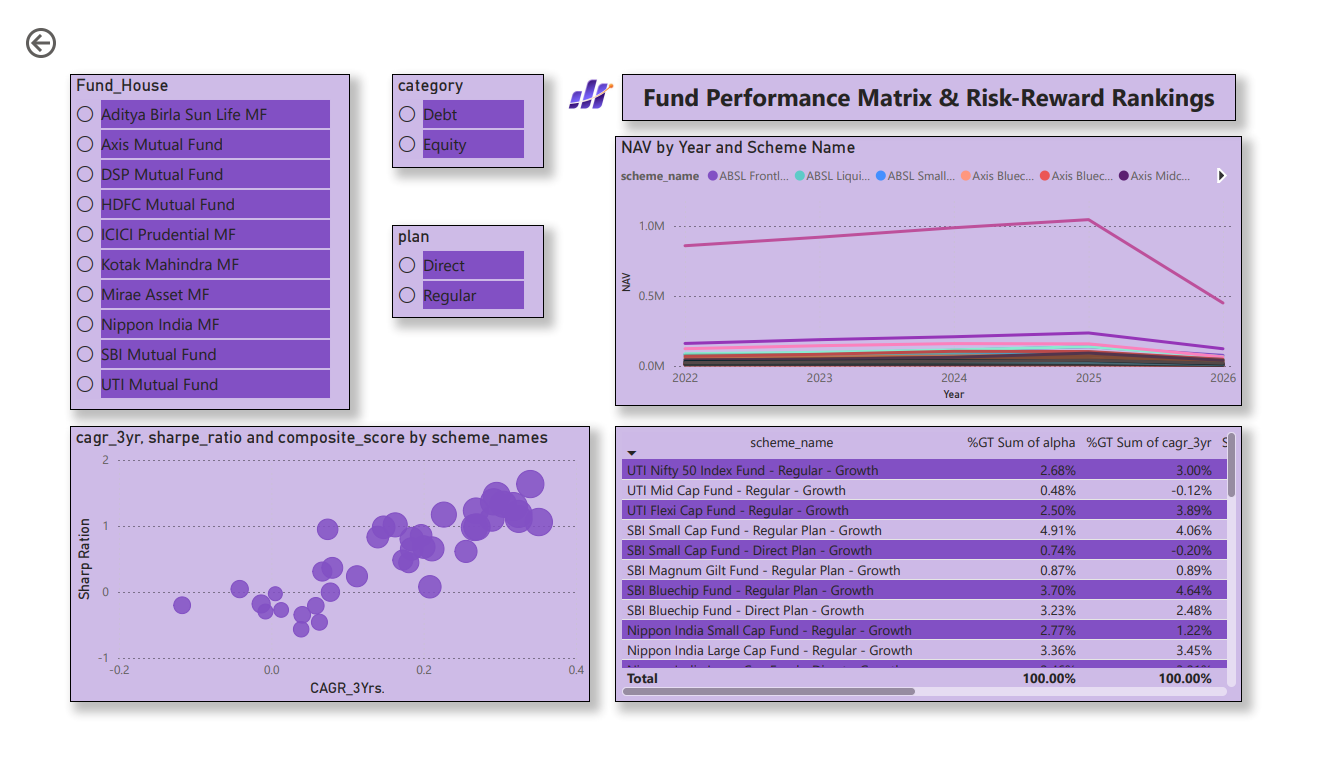

What the dashboard file says about the page in this screenshot:
{"tool":"powerbi","page":{"name":"Page 2","canvas":[1280,720],"ordinal":1},"visuals":[{"type":"listSlicer","title":"Fund_House","fields":{"Values":["Dim_Fund.fund_house"]},"box":[48.9,51,280.3,336.3],"z":0},{"type":"listSlicer","fields":{"Values":["Dim_Fund.category"]},"box":[371,51,151.8,93.8],"z":1000},{"type":"listSlicer","fields":{"Values":["Dim_Fund.plan"]},"box":[371,201.8,151.8,92.7],"z":2000},{"type":"scatterChart","title":"cagr_3yr,  sharpe_ratio and composite_score by scheme_names","fields":{"X":["Sum(Dim_Scorecard.cagr_3yr)"],"Category":["Dim_Scorecard.scheme_name"],"Size":["Sum(Dim_Scorecard.composite_score)"],"Y":["Sum(Dim_Scorecard.sharpe_ratio)"]},"box":[48.9,402.5,519.7,276.2],"z":3000},{"type":"tableEx","fields":{"Values":["Dim_Fund.scheme_name","Sum(Dim_Scorecard.alpha)","Sum(Dim_Scorecard.cagr_3yr)","Sum(Dim_Scorecard.sharpe_ratio)","Sum(Dim_Scorecard.expense_ratio_pct)","Sum(Dim_Scorecard.max_drawdown)","Sum(Dim_Scorecard.composite_score)"]},"box":[594.1,402.5,626.8,276.2],"z":4000},{"type":"lineChart","title":"NAV by Year and Scheme Name","fields":{"Category":["Fact_Nav.date.Variation.Date Hierarchy.Year","Fact_Nav.date.Variation.Date Hierarchy.Quarter","Fact_Nav.date.Variation.Date Hierarchy.Month","Fact_Nav.date.Variation.Date Hierarchy.Day"],"Y":["Sum(Fact_Nav.nav)"],"Series":["Dim_Scorecard.scheme_name"]},"box":[594.1,113.1,626.8,270.1],"z":5000},{"type":"actionButton","box":[0,0,100,40],"z":6000},{"type":"textbox","box":[601.3,51,613.5,46.9],"z":7000},{"type":"image","box":[509.6,43.8,117.2,54],"z":7001}]}

Visuals, with their boxes in screenshot pixels (x1, y1, x2, y2), scaled from the page's 1280x720 canvas onto the 1320x763 screenshot:
"Fund_House" listSlicer: [x1=50, y1=54, x2=339, y2=410]
listSlicer - Dim_Fund.category: [x1=383, y1=54, x2=539, y2=153]
listSlicer - Dim_Fund.plan: [x1=383, y1=214, x2=539, y2=312]
"cagr_3yr,  sharpe_ratio and composite_score by scheme_names" scatterChart: [x1=50, y1=427, x2=586, y2=719]
tableEx - Dim_Fund.scheme_name x Sum(Dim_Scorecard.alpha): [x1=613, y1=427, x2=1259, y2=719]
"NAV by Year and Scheme Name" lineChart: [x1=613, y1=120, x2=1259, y2=406]
actionButton: [x1=0, y1=0, x2=103, y2=42]
textbox: [x1=620, y1=54, x2=1253, y2=104]
image: [x1=526, y1=46, x2=646, y2=104]
